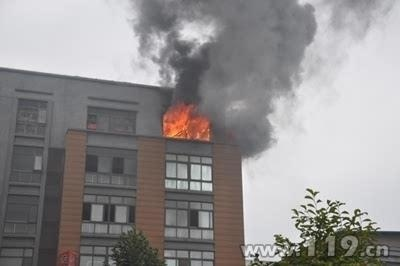fire: (160, 100, 213, 141)
